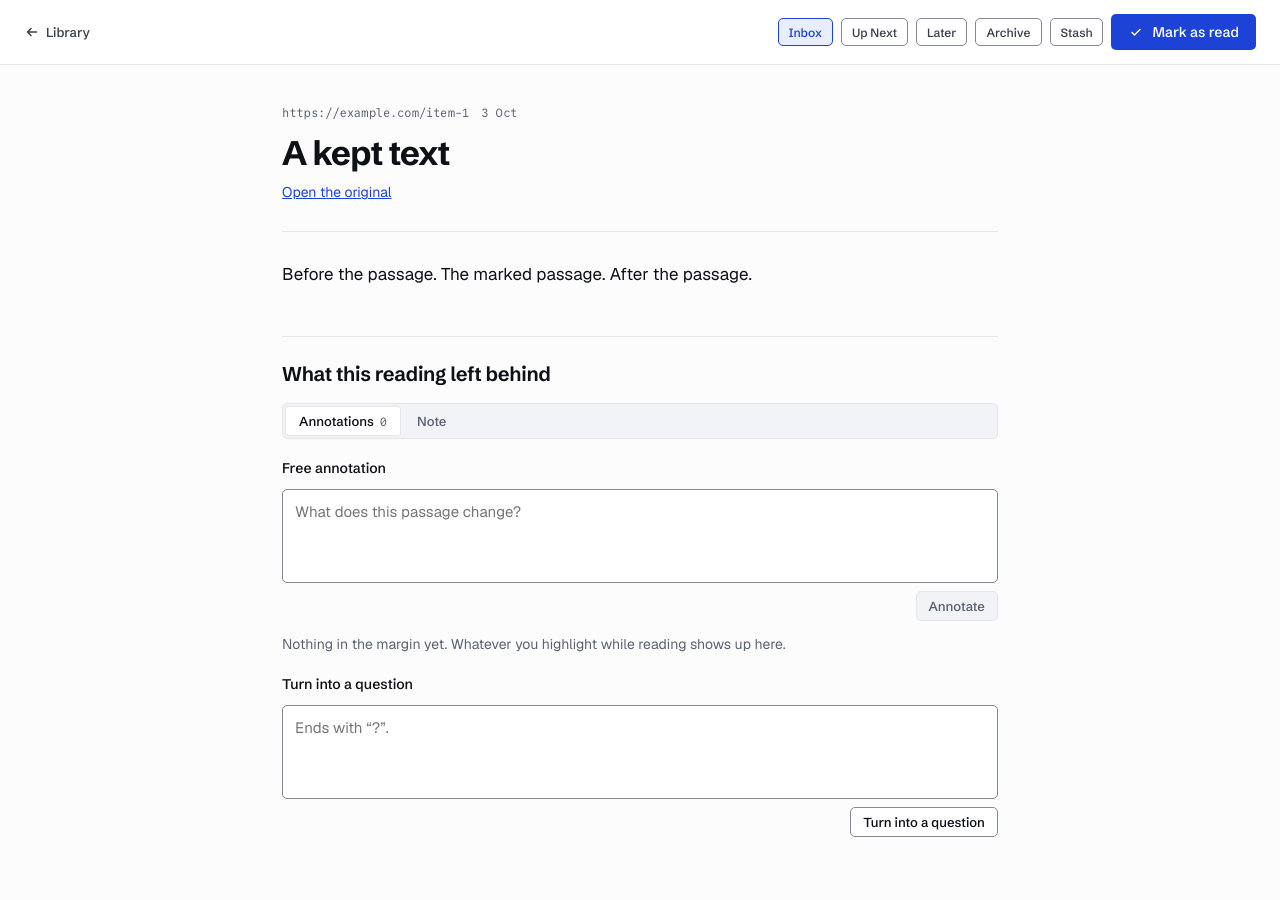
Test: the reader's notes actions › refuses a question that does not end in a question mark
The width and height of the screenshot is (1280, 900).
In the text box with id "notes-reader-question": [640, 752] box [282,705,998,799], type "This is not a question"
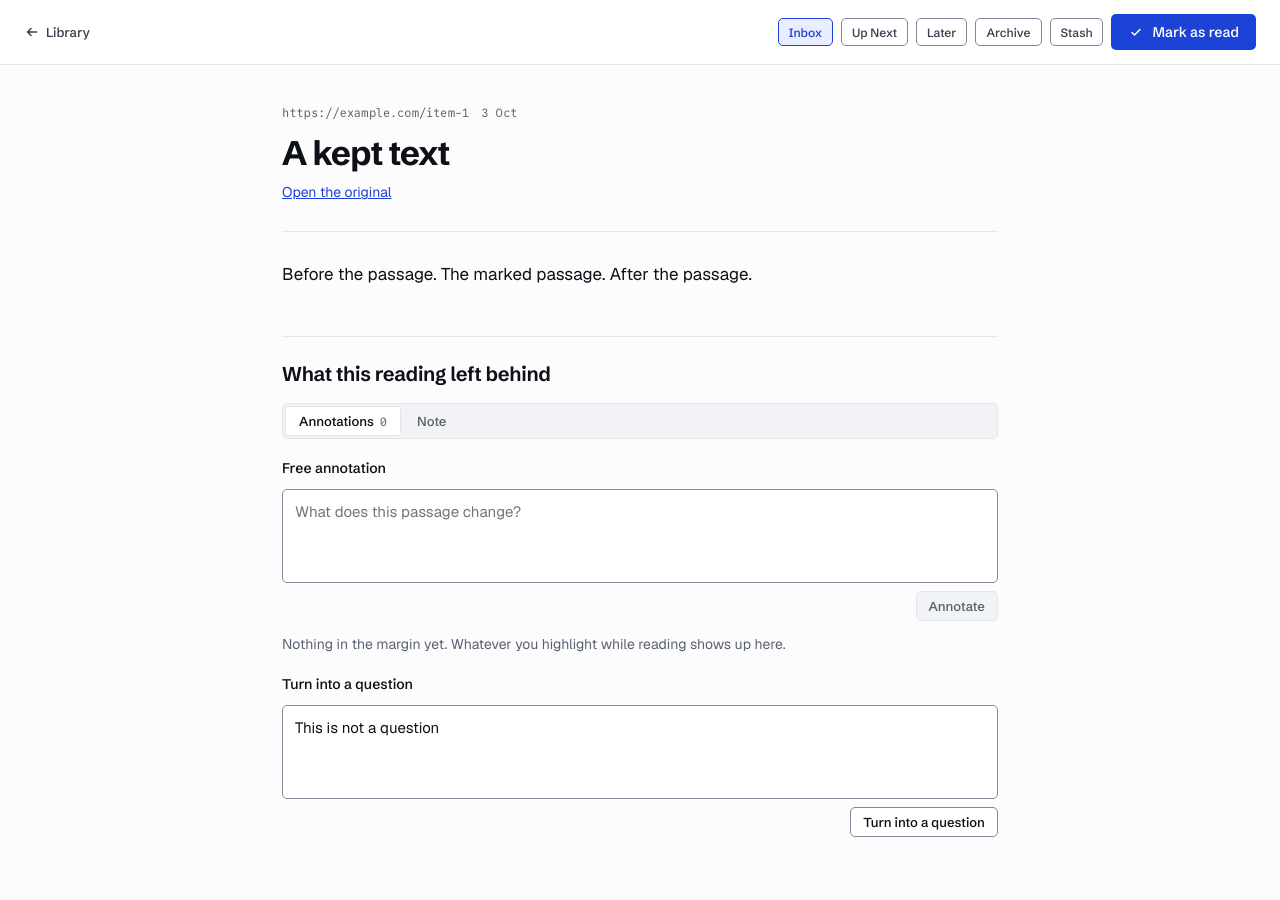
Click the button "Turn into a question": [924, 822] box [850,807,998,837]
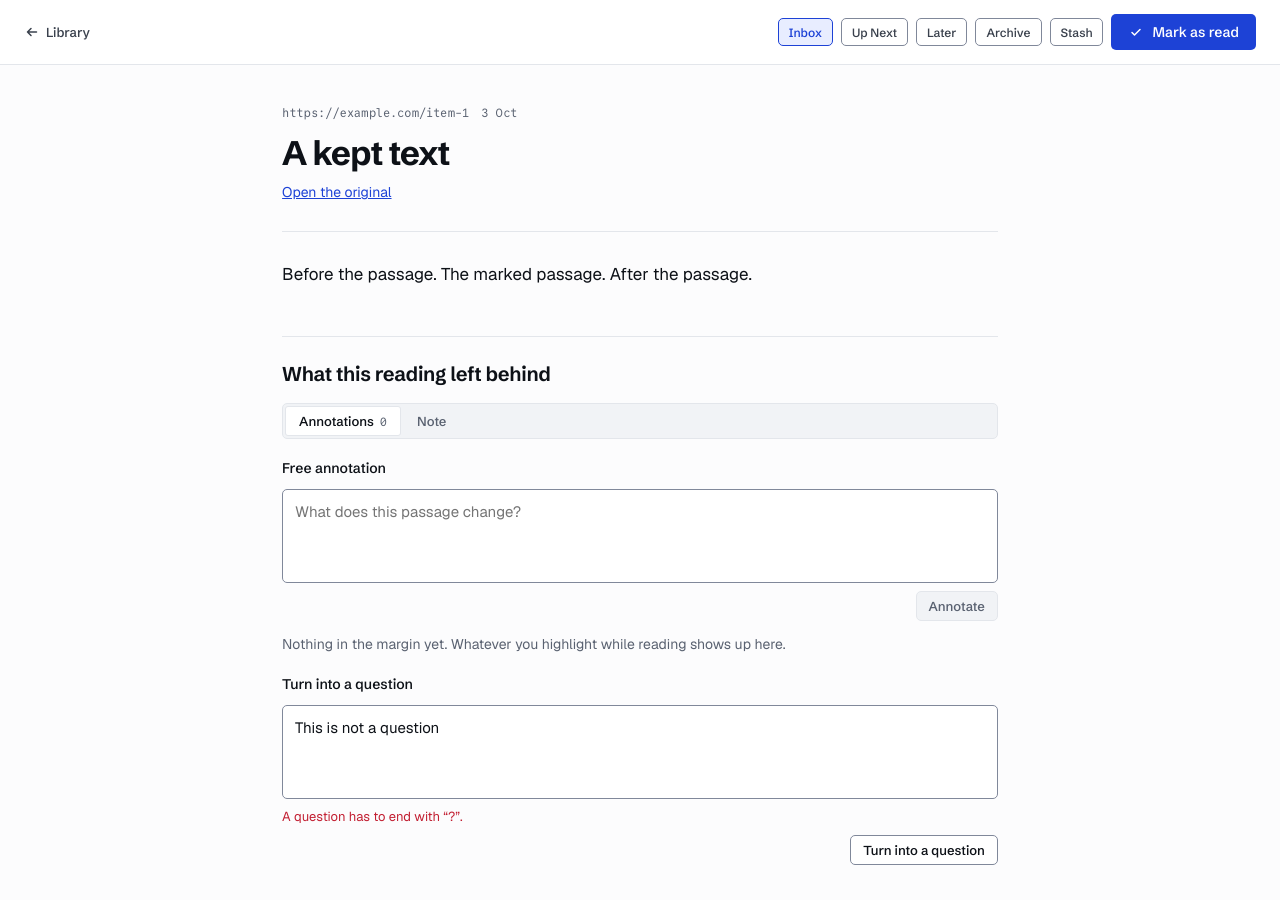
Now the message with id "notes-reader-question-error" reads "A question has to end with “?”.", box [282,808,463,825]
